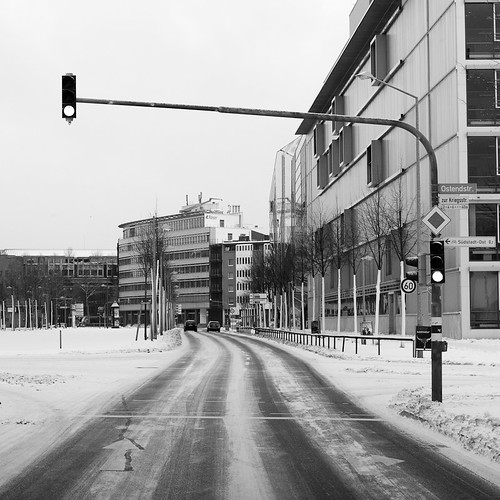building: (274, 5, 489, 337), (117, 199, 250, 325), (1, 255, 115, 329), (214, 229, 276, 332)
road: (16, 330, 500, 500)
sign: (422, 198, 459, 233), (401, 278, 417, 296)
sky: (6, 1, 316, 245)
